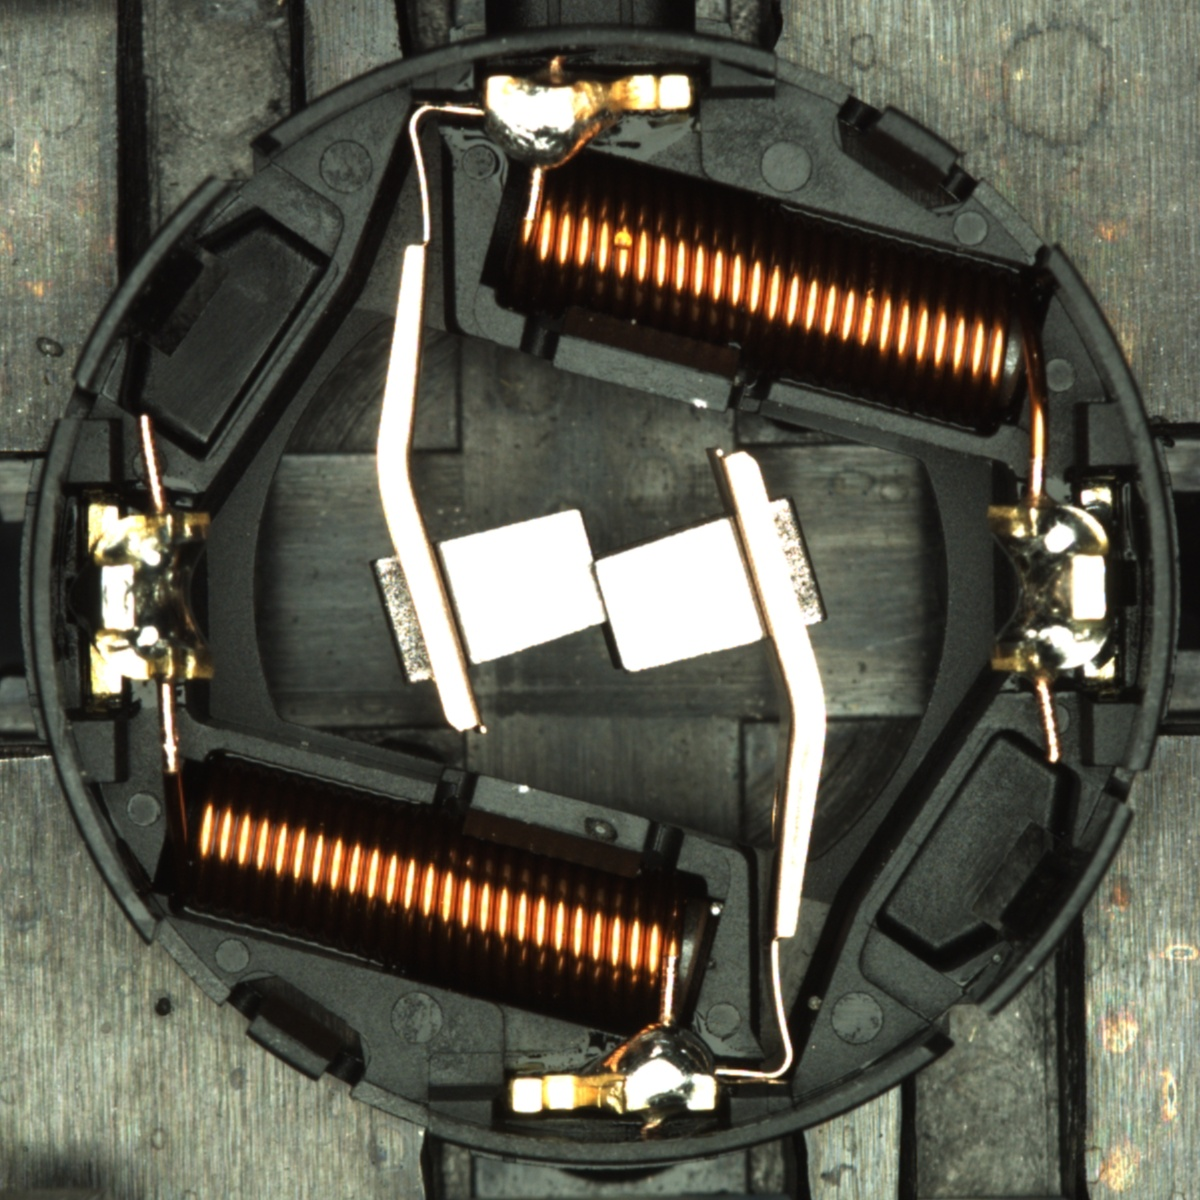1: (254, 30, 484, 254), (712, 927, 942, 1152)
2: (712, 30, 942, 254), (254, 927, 484, 1152)
3: (942, 702, 1171, 927), (25, 254, 254, 478)
4: (712, 702, 942, 927), (254, 254, 484, 478)
5: (484, 142, 712, 366), (484, 815, 712, 1040)
6: (254, 702, 484, 927), (712, 254, 942, 478)
7: (25, 702, 254, 927), (942, 254, 1171, 478)
bui_chi: (707, 901, 725, 919)
cacbon: (395, 497, 802, 684)
chau_dien: (980, 485, 1121, 685), (81, 497, 220, 696)
tay_choi: (480, 73, 698, 175), (508, 1020, 721, 1116)
thanh_de: (953, 786, 1141, 1031), (59, 163, 245, 404)
